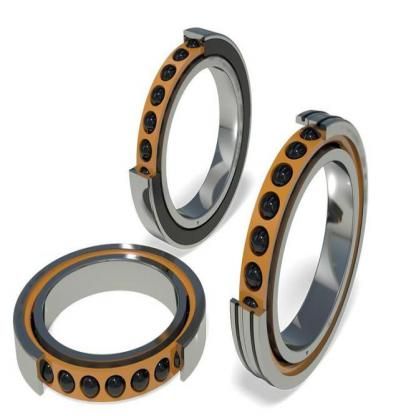FOD: (228, 104, 368, 396), (10, 238, 208, 404), (125, 24, 252, 254)
